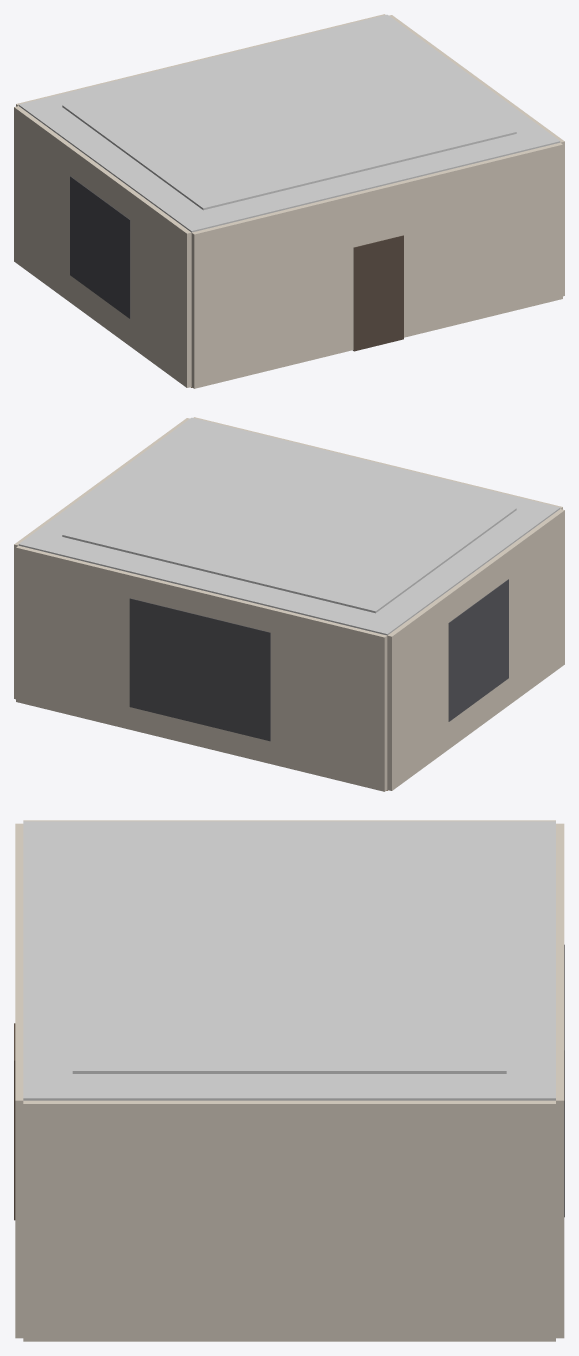
The model's file is master_room_shell.glb.
3 renders of one model, top to bottom at view 1: azimuth 30°, elevation 25°; view 2: azimuth 150°, elevation 25°; view 3: azimuth 270°, elevation 25°, orthographic. The views are drawn at different scales.
Visible parts, largest first — view 1: Room_Walls, Ceiling_Tray_Recess, Ceiling_FlatModern, Window_Frames_Left, Door_Frames_Back; view 2: Room_Walls, Ceiling_Tray_Recess, Ceiling_FlatModern, Window_Frames_Front, Window_Frames_Left; view 3: Room_Walls, Ceiling_Tray_Recess, Ceiling_FlatModern.
Boxes of the visible parts, box(x1,y1,x2,y2) form: Room_Walls: box(14, 14, 564, 388); Ceiling_Tray_Recess: box(62, 28, 516, 210); Ceiling_FlatModern: box(18, 14, 560, 232); Window_Frames_Left: box(70, 176, 130, 318); Door_Frames_Back: box(353, 235, 403, 351); Room_Walls: box(14, 417, 564, 791); Ceiling_Tray_Recess: box(62, 431, 516, 613); Ceiling_FlatModern: box(18, 417, 560, 635); Window_Frames_Front: box(129, 598, 270, 741); Window_Frames_Left: box(448, 579, 508, 721); Room_Walls: box(15, 820, 564, 1341); Ceiling_Tray_Recess: box(72, 835, 506, 1073); Ceiling_FlatModern: box(23, 821, 555, 1100).
Bounding box in the file's own units: 8.21 × 3.35 × 6.73.
